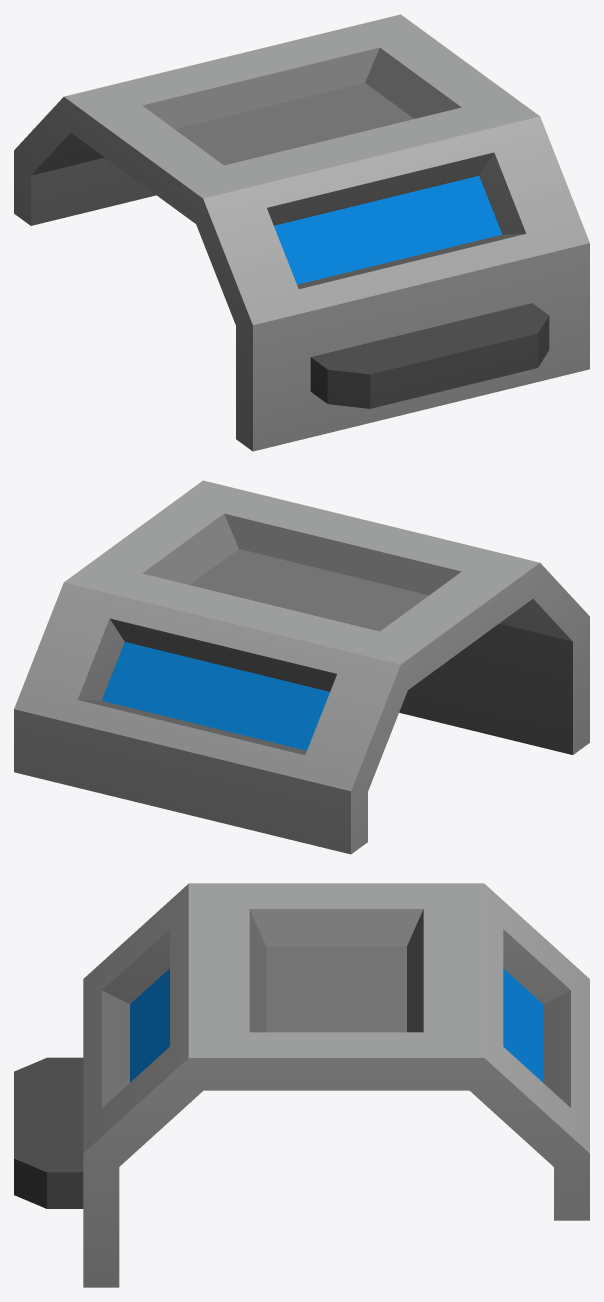
The model's file is Crate_008_cap_002.fbx.
3 views of the same model, one above another, from view 1: azimuth 30°, elevation 25°; view 2: azimuth 150°, elevation 25°; view 3: azimuth 270°, elevation 25° (orthographic). The views are drawn at different scales.
Visible parts, largest first — view 1: Crate_008_cap_002; view 2: Crate_008_cap_002; view 3: Crate_008_cap_002.
Part boxes in pixels (left/top/right/bottom): Crate_008_cap_002: left=14, top=14, right=589, bottom=451; Crate_008_cap_002: left=14, top=480, right=589, bottom=854; Crate_008_cap_002: left=14, top=883, right=589, bottom=1287.
Bounding box in the file's own units: 46.48 × 64.85 × 28.53.
